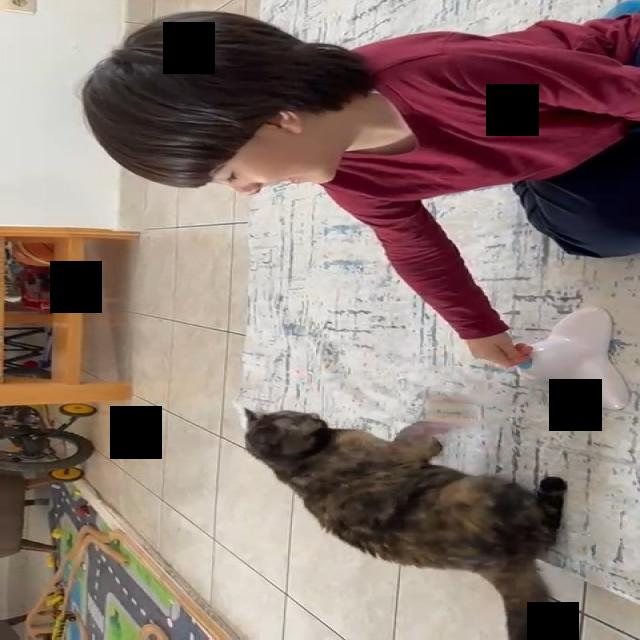authorized: (241, 407, 568, 639)
